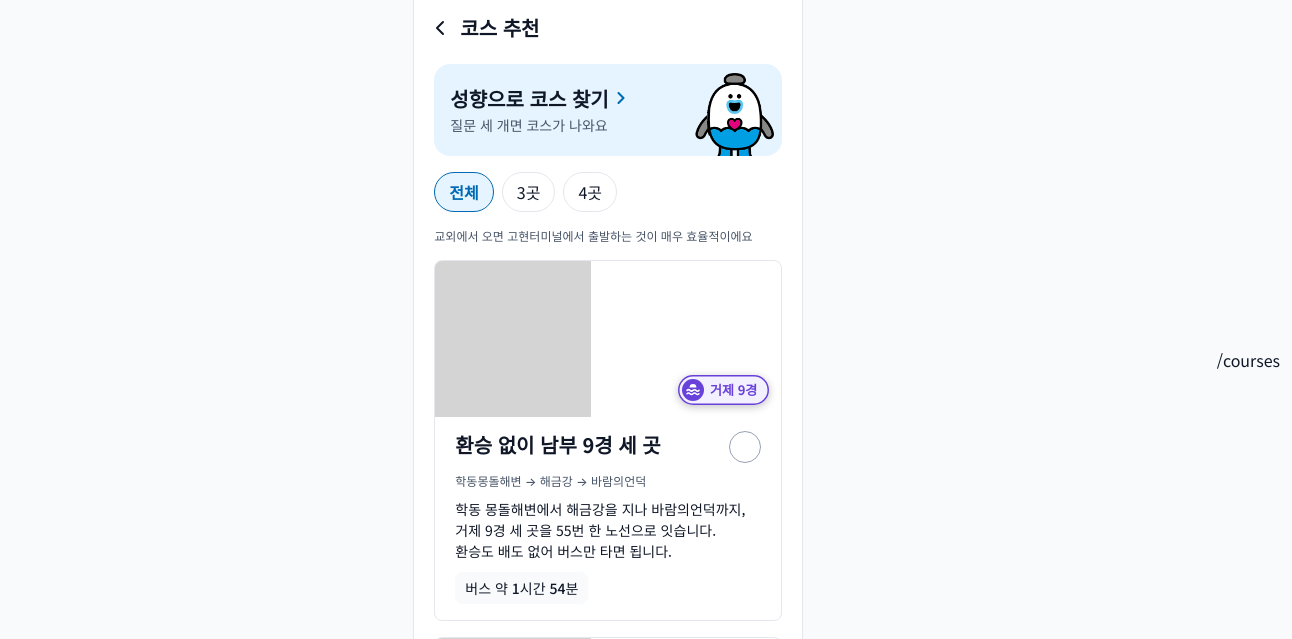
Test case: CoursesPage — 개수 칩(Figma 623:444 · 메모 623:520, 2026-09-16 되살림) › 3곳을 누르면 3곳 코스만 · 상태줄이 「3곳 코스 2가지」 · 주소에 남는다 → 전체로 돌아오면 다시 전부
Click the button "3곳". click: (529, 192)
box: [502, 172, 555, 212]
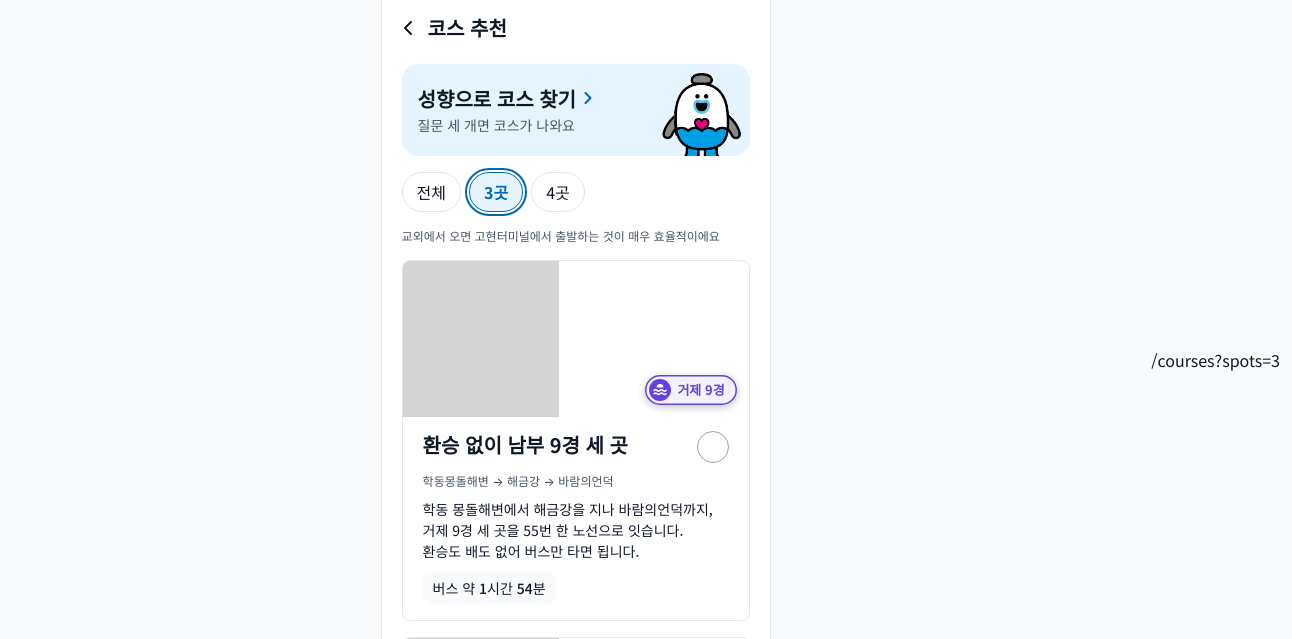
Now the text with test id "loc" reads "/courses?spots=3", box [1151, 348, 1280, 372]
Click the button "전체". click: (431, 192)
box: [402, 172, 461, 212]
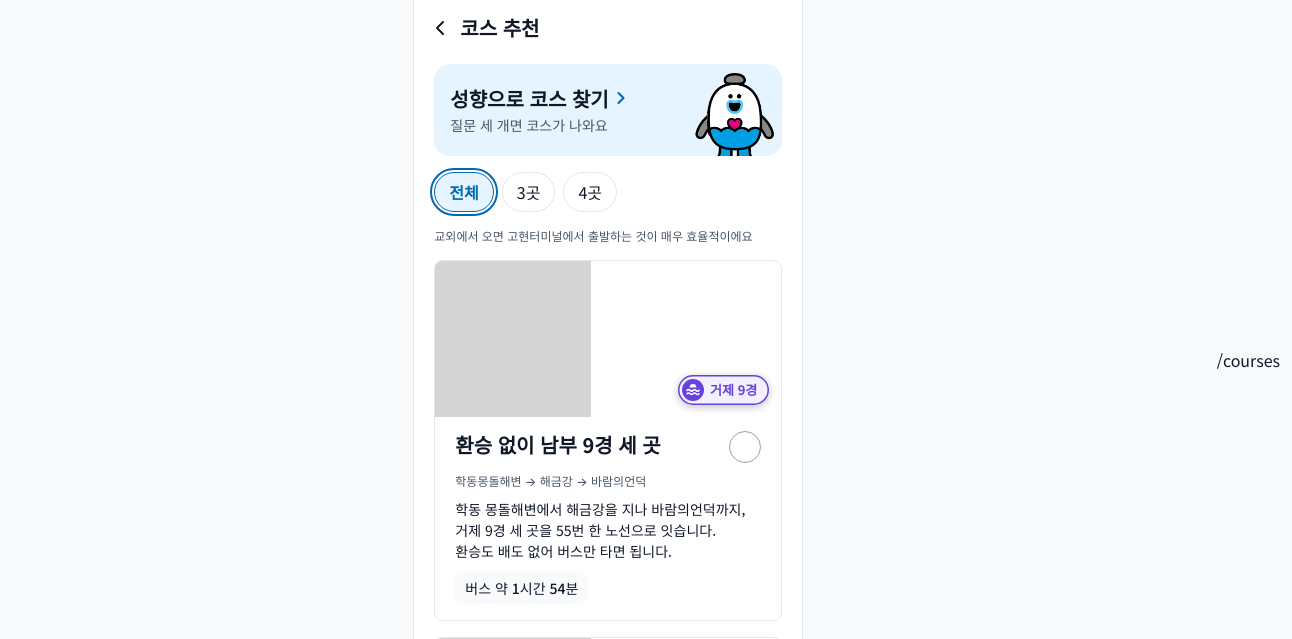
Now the text with test id "loc" reads "/courses", box [1217, 348, 1280, 372]
